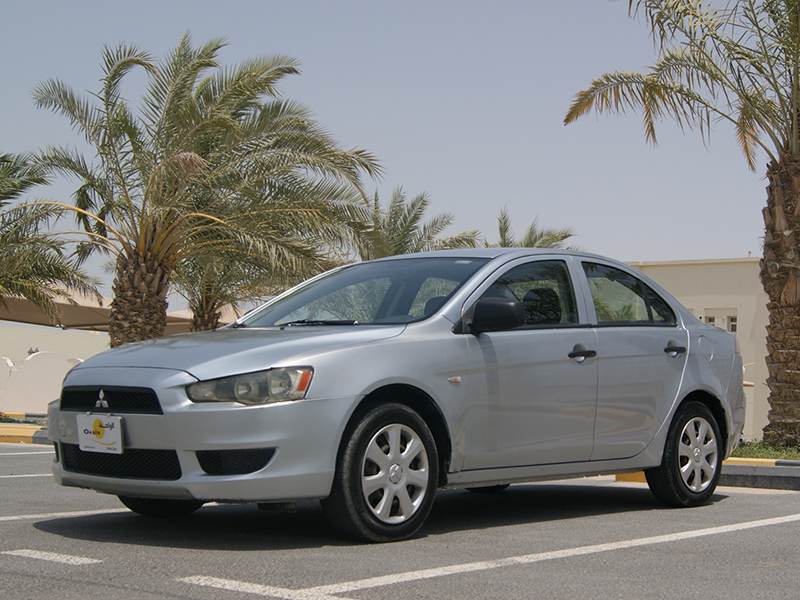other: (45, 255, 741, 531)
